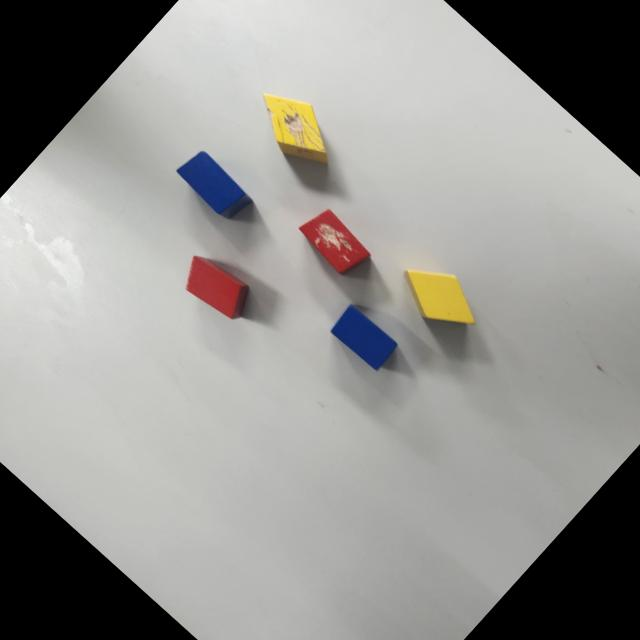blue: (170, 144, 254, 225), (326, 302, 399, 373)
broken: (240, 75, 348, 181), (293, 201, 377, 283)
red: (172, 244, 258, 330)
yellow: (389, 250, 491, 348)
